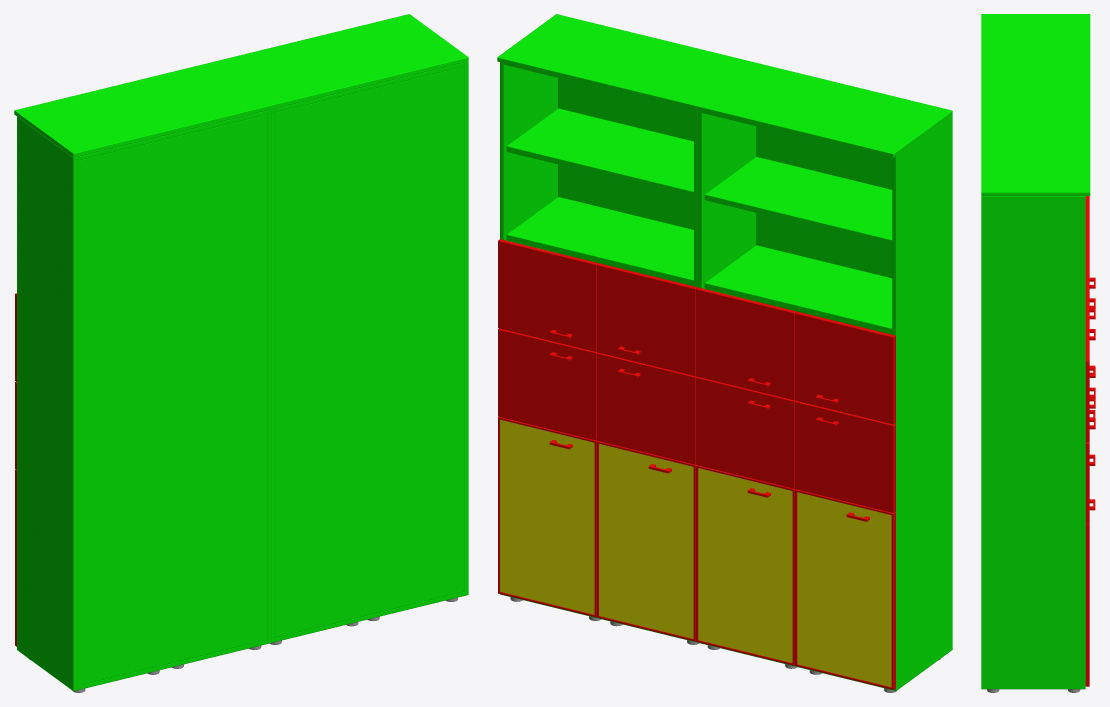
The model's file is BookShelf03.fbx.
3 views of the same model, side by side, from view 1: azimuth 30°, elevation 25°; view 2: azimuth 150°, elevation 25°; view 3: azimuth 270°, elevation 25° (orthographic). The views are drawn at different scales.
Visible parts, largest first — view 1: polySurface413; view 2: polySurface413; view 3: polySurface413.
Part boxes in pixels (x1=…): polySurface413: x1=14, y1=14, x2=468, y2=691; polySurface413: x1=497, y1=14, x2=952, y2=690; polySurface413: x1=981, y1=14, x2=1095, y2=689.
Bounding box in the file's own units: 2.18 × 2.87 × 0.5915.
